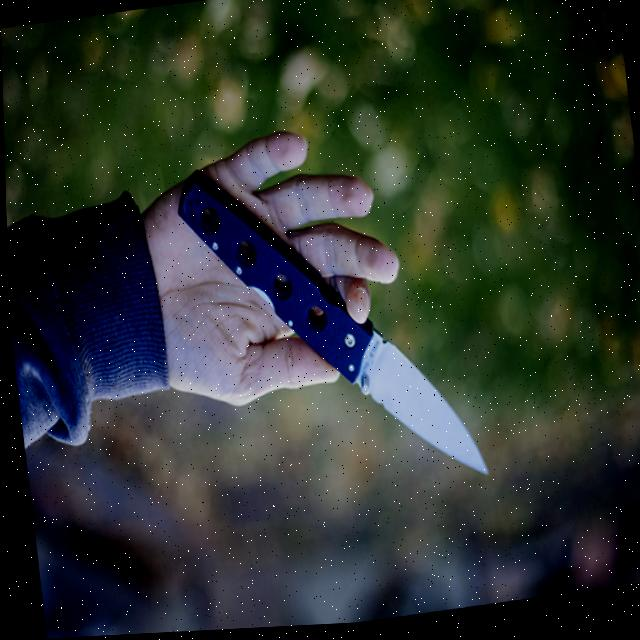knife: (171, 140, 487, 518)
